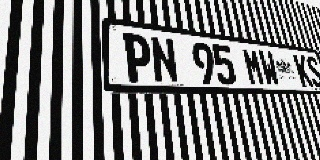5: (211, 44, 238, 85)
9: (191, 41, 218, 85)
K: (293, 54, 314, 87)
M: (241, 48, 266, 86)
N: (149, 36, 179, 83)
P: (122, 32, 153, 83)
S: (305, 56, 320, 87)
W: (257, 50, 281, 86)
